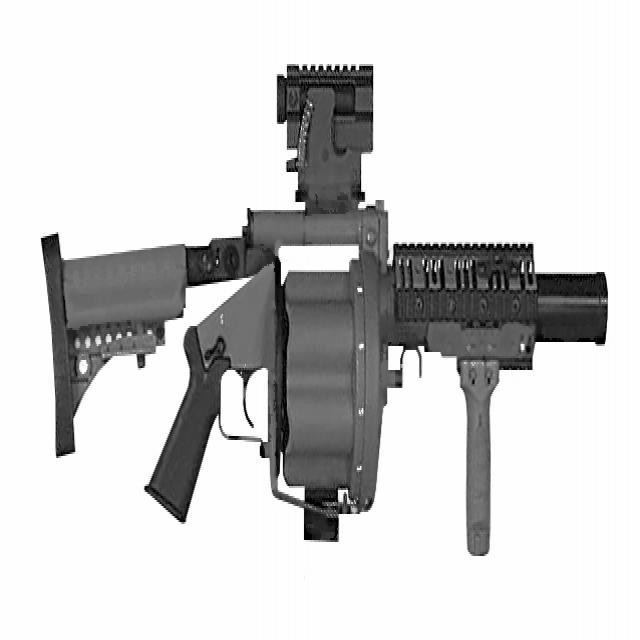rocket launcher: (32, 197, 607, 573)
scope: (266, 50, 378, 212)
